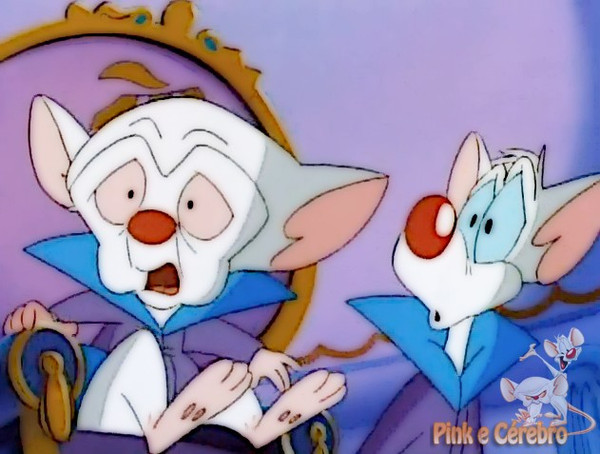cerebro: (10, 67, 391, 451), (498, 371, 564, 427)
pink: (393, 94, 600, 339), (544, 319, 600, 438)
